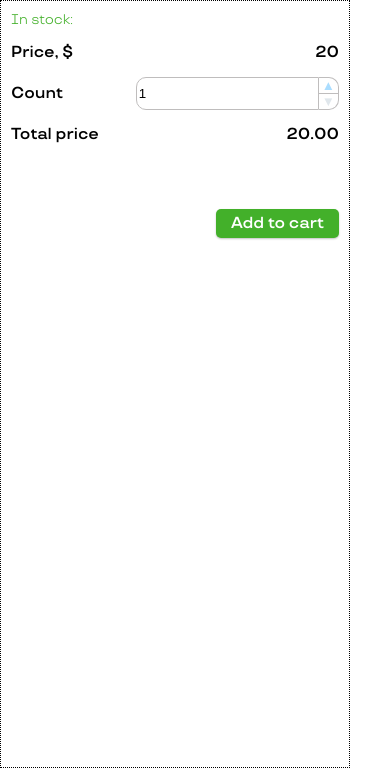
Test case: Price сounter › should decrease by 1
Click the button "▲" at (329, 85), box 319,77 -> 339,93
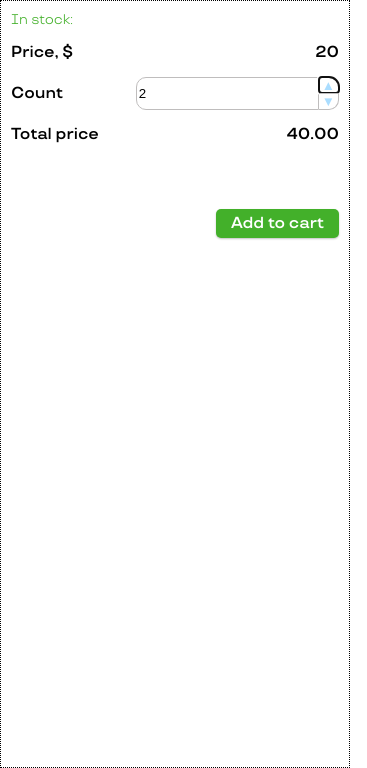
Click the button "▼" at (329, 102), box 319,93 -> 339,110
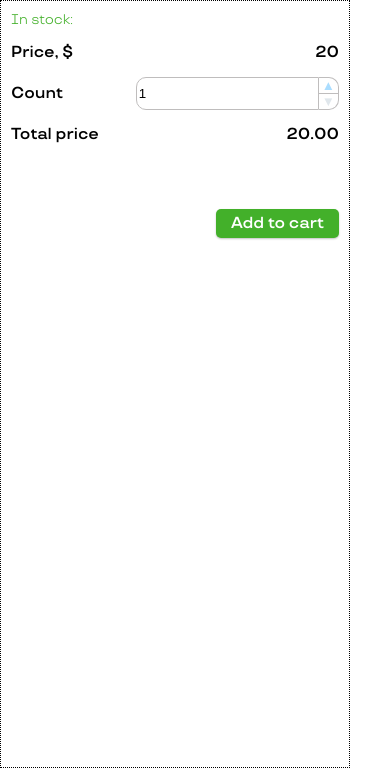
Expected: the number field holds "1", 136,77 -> 319,110
